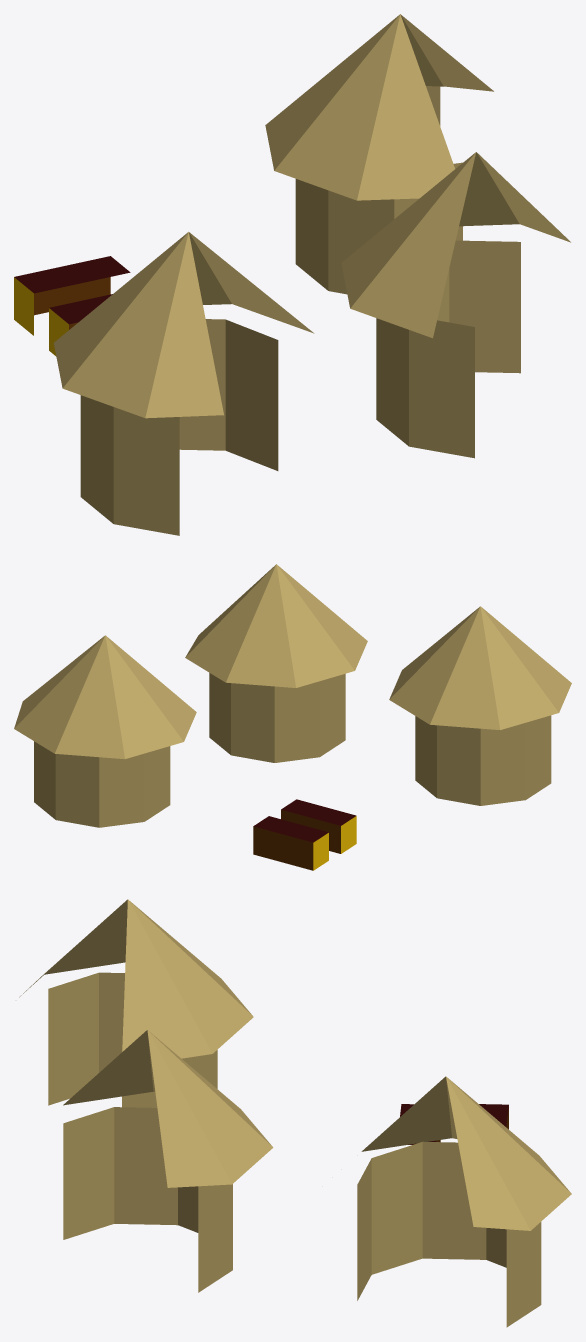
File: VILLAGE.glb
3 renders of one model, top to bottom at view 1: azimuth 30°, elevation 25°; view 2: azimuth 150°, elevation 25°; view 3: azimuth 270°, elevation 25°, orthographic. The views are drawn at different scales.
Visible parts, largest first — view 1: Village; view 2: Village; view 3: Village.
Part boxes in pixels (x1,y1,x2,y2): Village: [14, 14, 570, 535]; Village: [14, 564, 571, 870]; Village: [19, 899, 571, 1327].
Size of the model in its own units: 3.01 by 1.21 by 2.63.
Materials: 1 (1 with a texture image).
